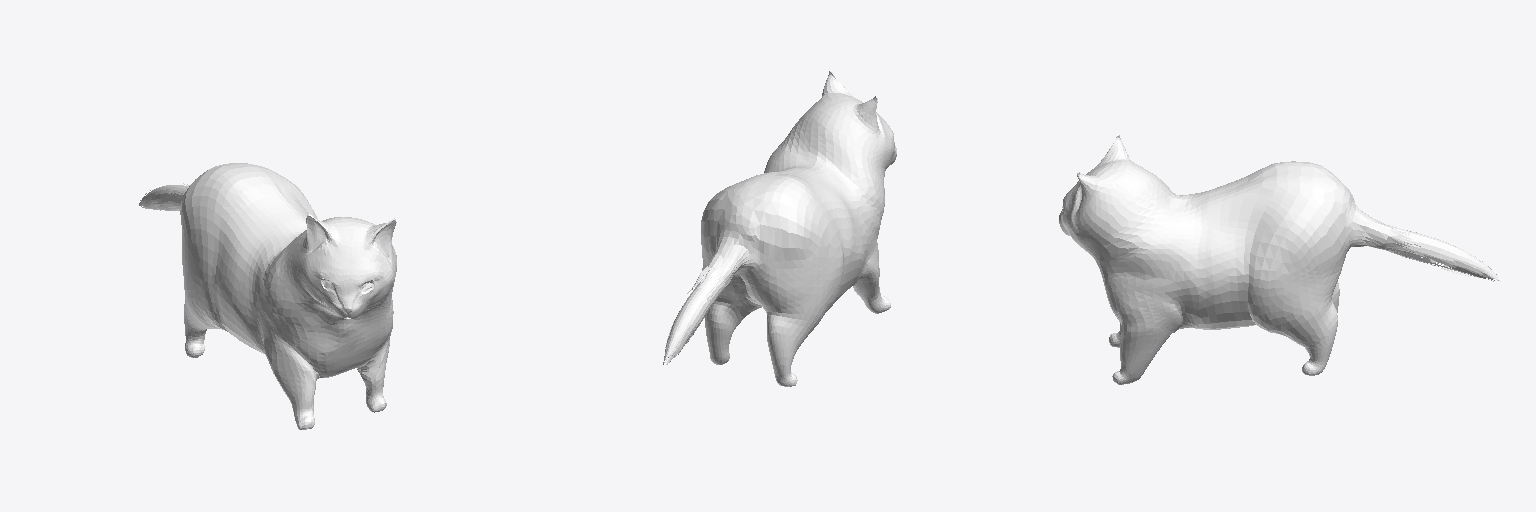
Rendered from cat.obj.
3 renders of one model, left to right at view 1: azimuth 30°, elevation 25°; view 2: azimuth 150°, elevation 25°; view 3: azimuth 270°, elevation 25°, orthographic.
Parts seen in each view (by area): view 1: obj1; view 2: obj1; view 3: obj1.
Boxes of the visible parts, x1=… form: obj1: x1=139, y1=163, x2=396, y2=429; obj1: x1=663, y1=71, x2=896, y2=386; obj1: x1=1059, y1=135, x2=1500, y2=384.
Size of the model in its own units: 0.2392 by 0.3866 by 0.7242.